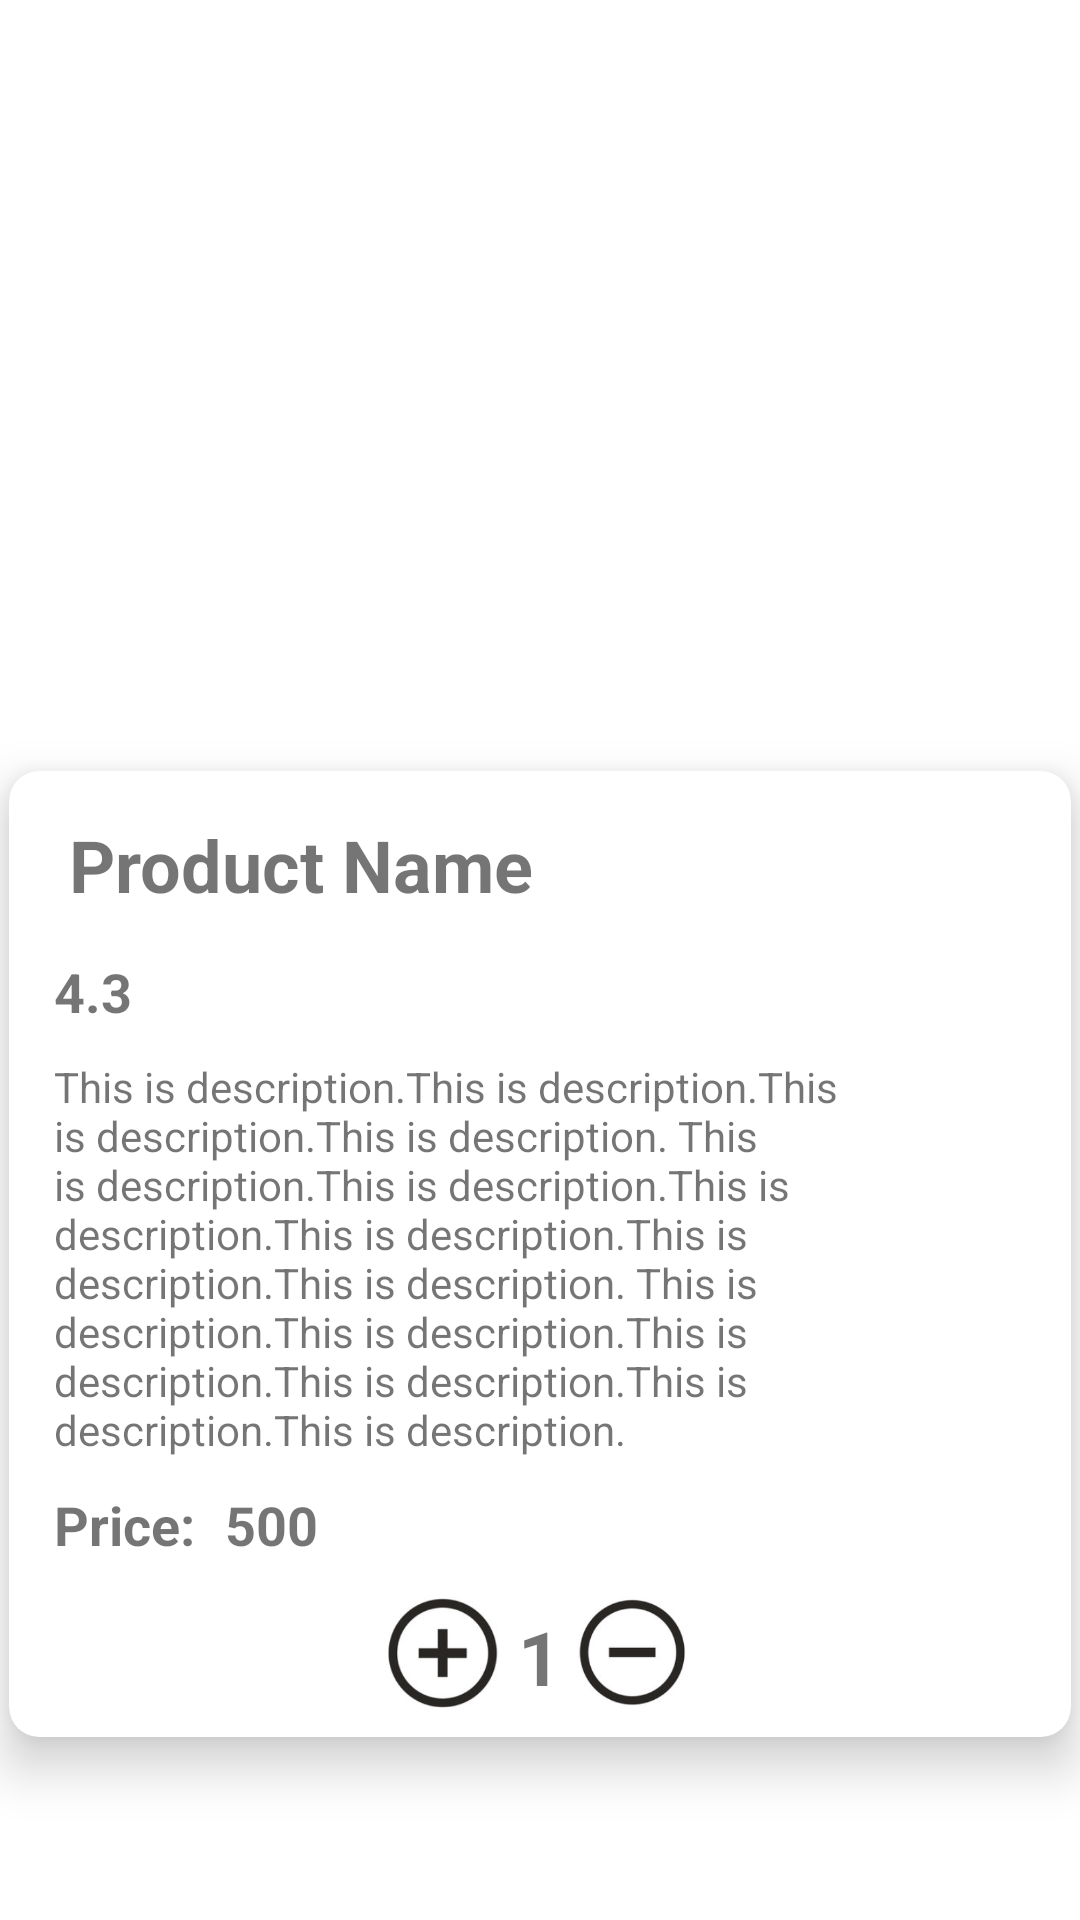

Icons on this 1080x1920 Android screen, each with the point to tap as (x=x, y=y):
minus: (x=632, y=1652)
plus: (x=443, y=1653)
